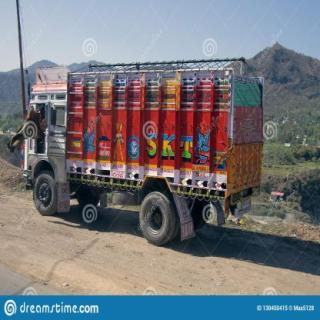Normal_vehicle: (18, 59, 270, 244)
